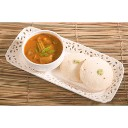idly: (82, 57, 113, 91), (62, 52, 85, 84)
